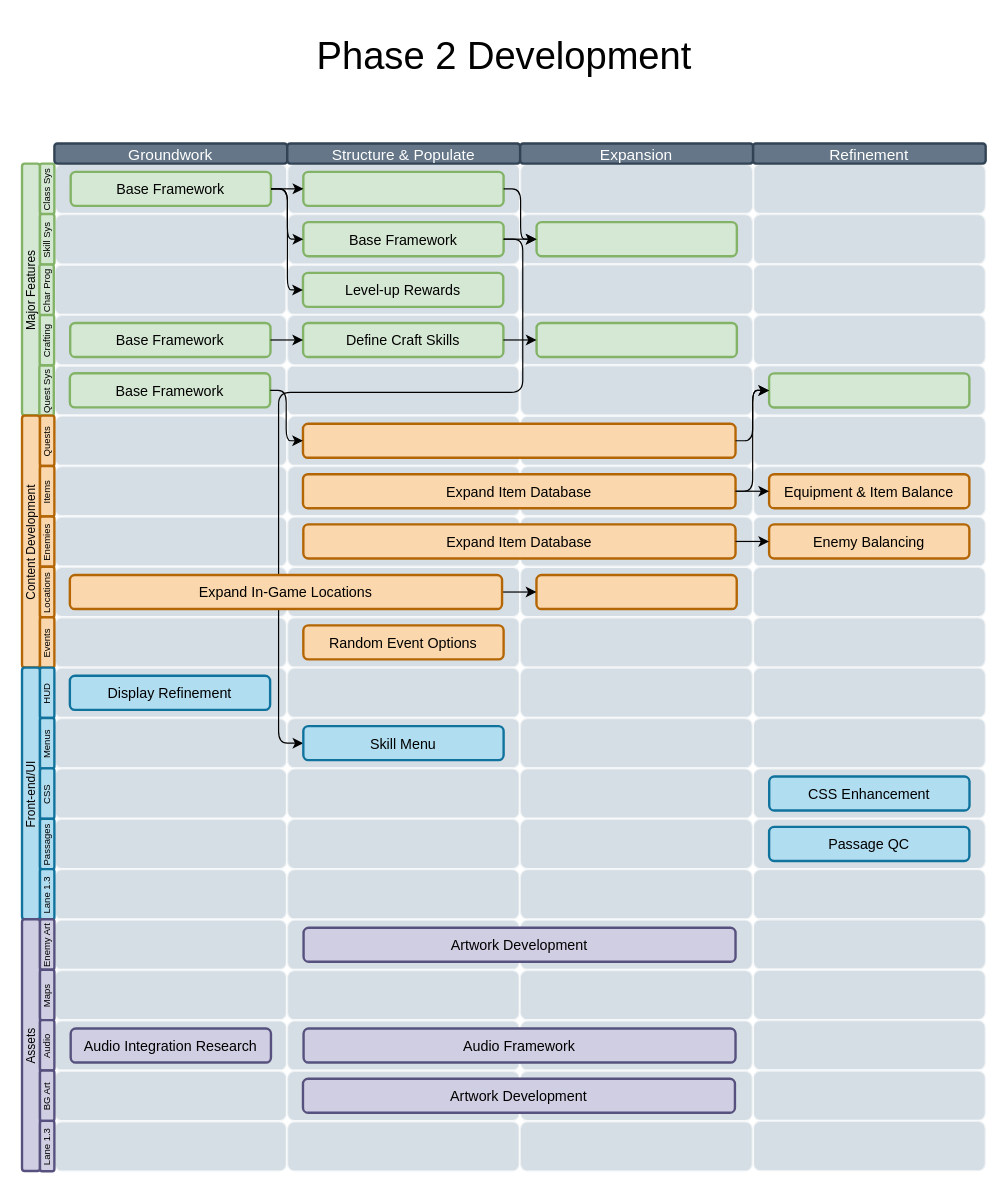
Image size: 1007x1192. Some labels were removed from this diagram. Here are the shapes that lost their labels. From the top down, the centre of each, then its label:
At pixel 403 188: "Starting Classes".
At pixel 636 238: "Tier 1 Class Skills".
At pixel 636 339: "Resource Gathering".
At pixel 868 390: "Quest Rewards Balancing".
At pixel 518 440: "Starting Area Quests".
At pixel 636 591: "Location Content".
